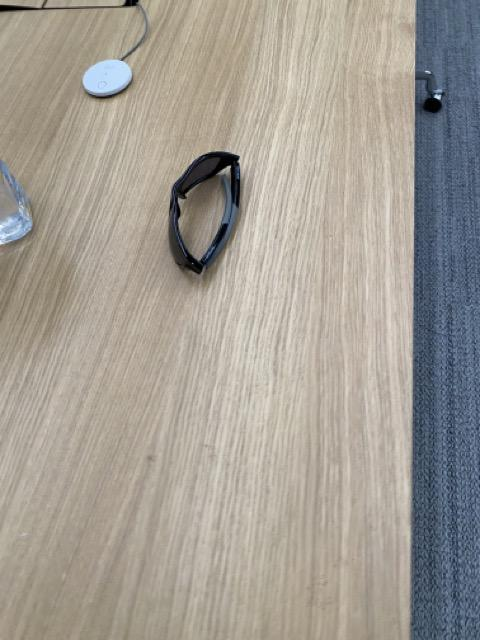Sunglasses: (169, 150, 244, 278)
